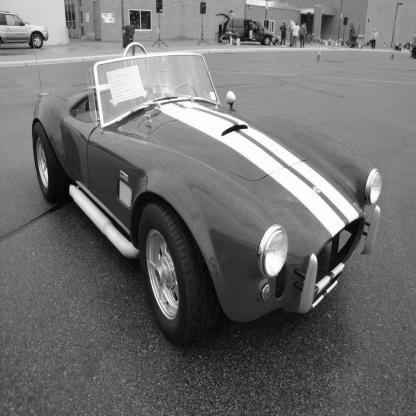car: (14, 32, 408, 355)
